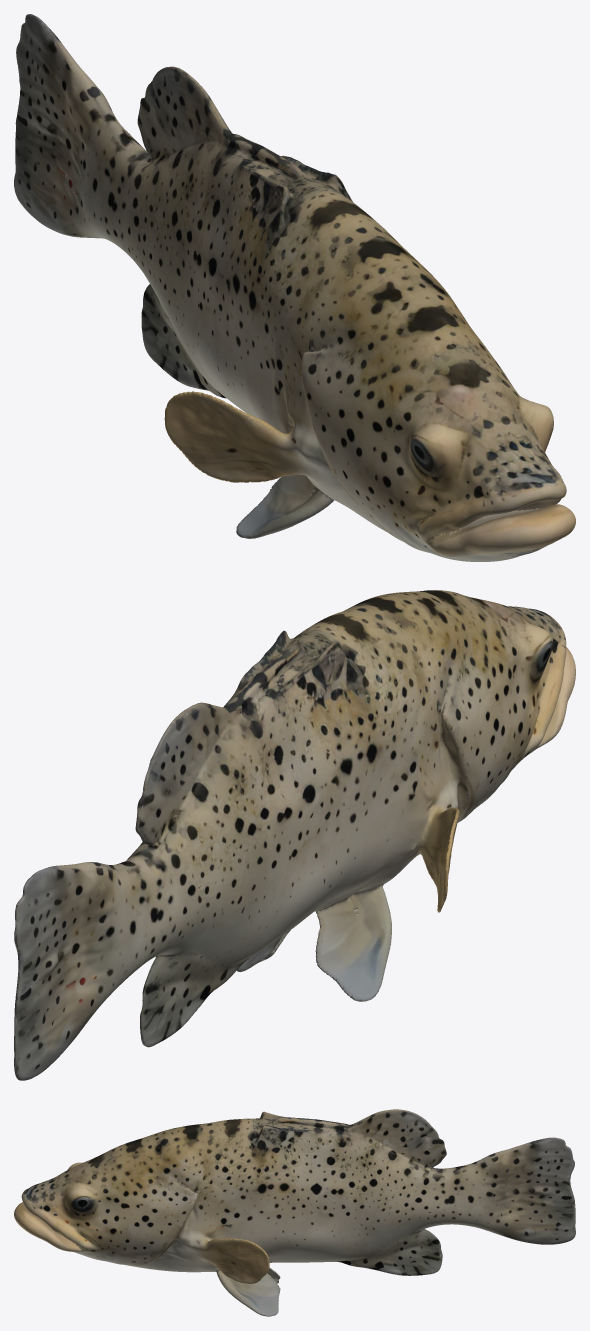
The model's file is fish_humpback_grouper.glb.
3 views of the same model, one above another, from view 1: azimuth 30°, elevation 25°; view 2: azimuth 150°, elevation 25°; view 3: azimuth 270°, elevation 25° (orthographic). The views are drawn at different scales.
Parts seen in each view (by area): view 1: tripo_node_2baac222-9f3d-4a49-b2dc-2545896bf57a; view 2: tripo_node_2baac222-9f3d-4a49-b2dc-2545896bf57a; view 3: tripo_node_2baac222-9f3d-4a49-b2dc-2545896bf57a.
Part boxes in pixels (<box>): tripo_node_2baac222-9f3d-4a49-b2dc-2545896bf57a: <box>14,14,575,561</box>; tripo_node_2baac222-9f3d-4a49-b2dc-2545896bf57a: <box>14,590,575,1080</box>; tripo_node_2baac222-9f3d-4a49-b2dc-2545896bf57a: <box>14,1109,575,1316</box>.
Bounding box in the file's own units: 0.3074 × 0.3734 × 1.
Materials: 1 (1 with a texture image).
